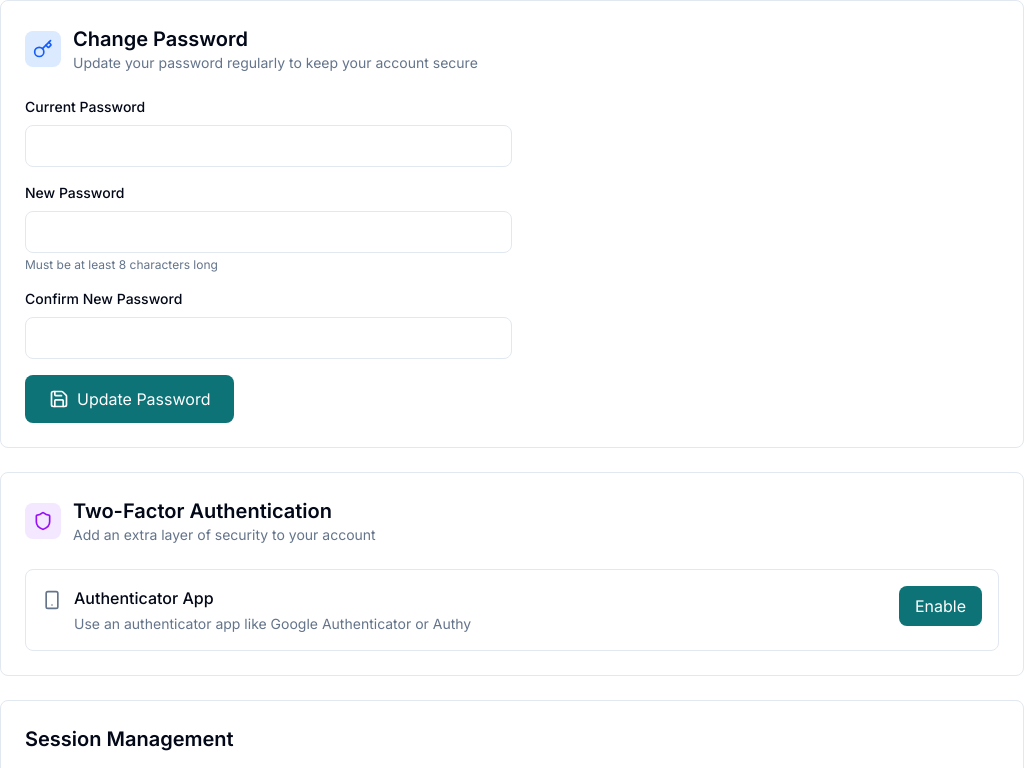
Test: SecuritySettings › should show error if passwords do not match
Type "oldpassword123" into the password field labelled "Current Password". click: (268, 146)
box: [25,125,512,167]
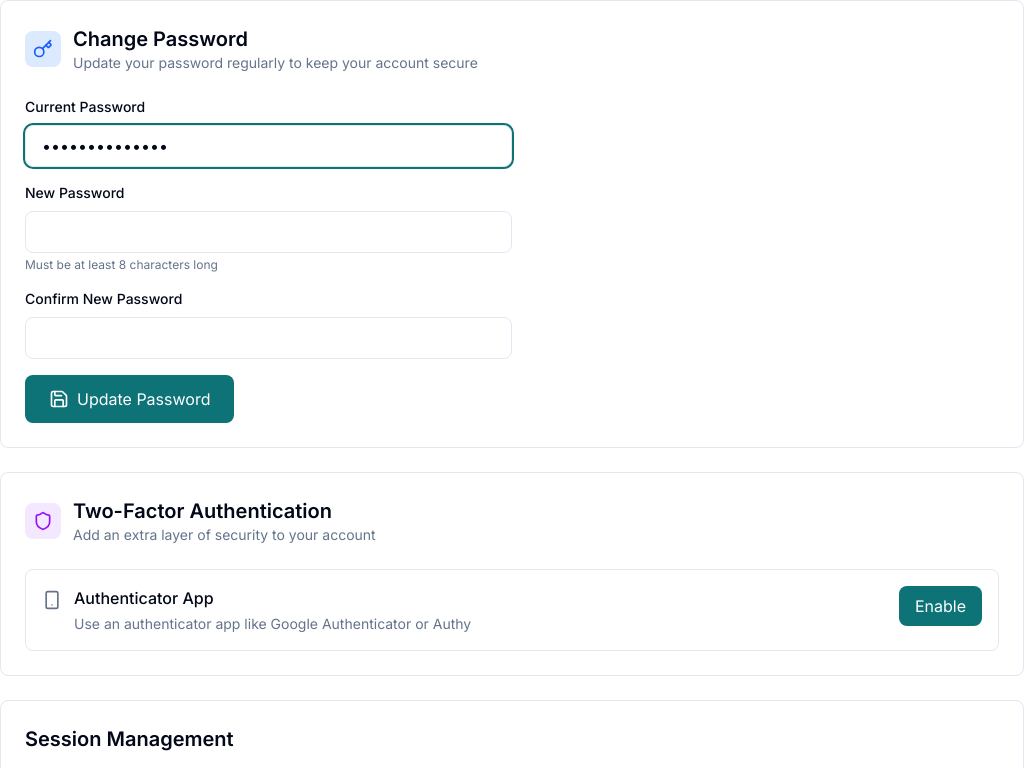
Type "newpassword123" into the password field labelled "New Password". click: (268, 232)
box: [25,211,512,253]
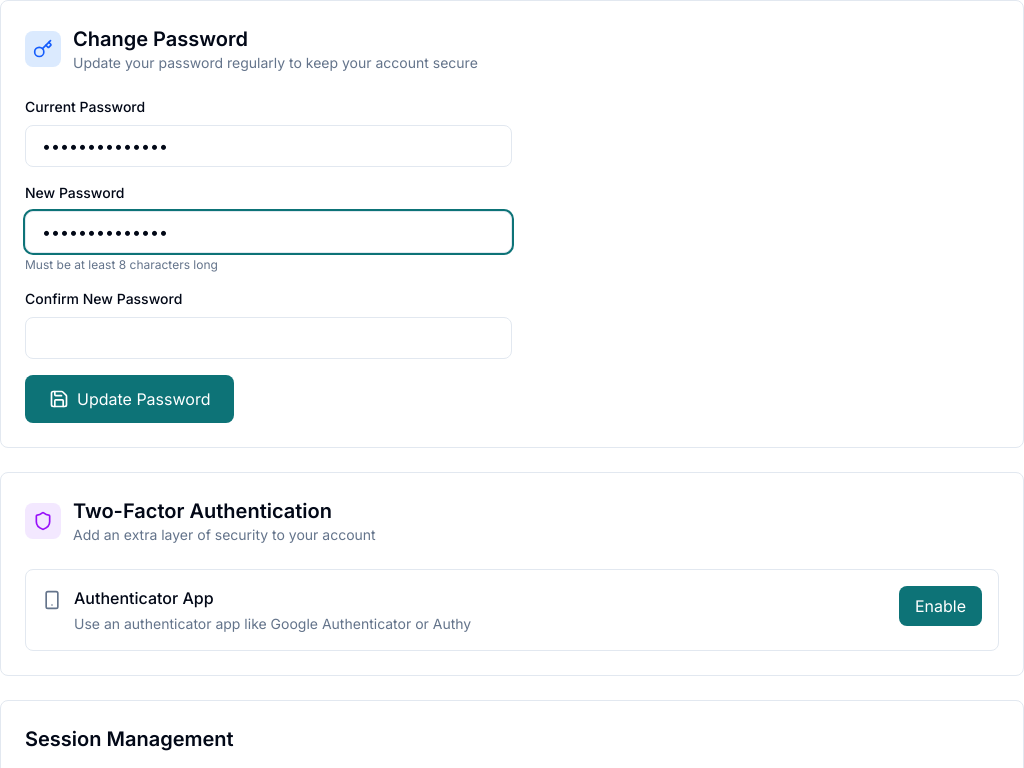
Type "differentpassword" into the password field labelled "Confirm New Password". click: (268, 338)
box: [25,317,512,359]
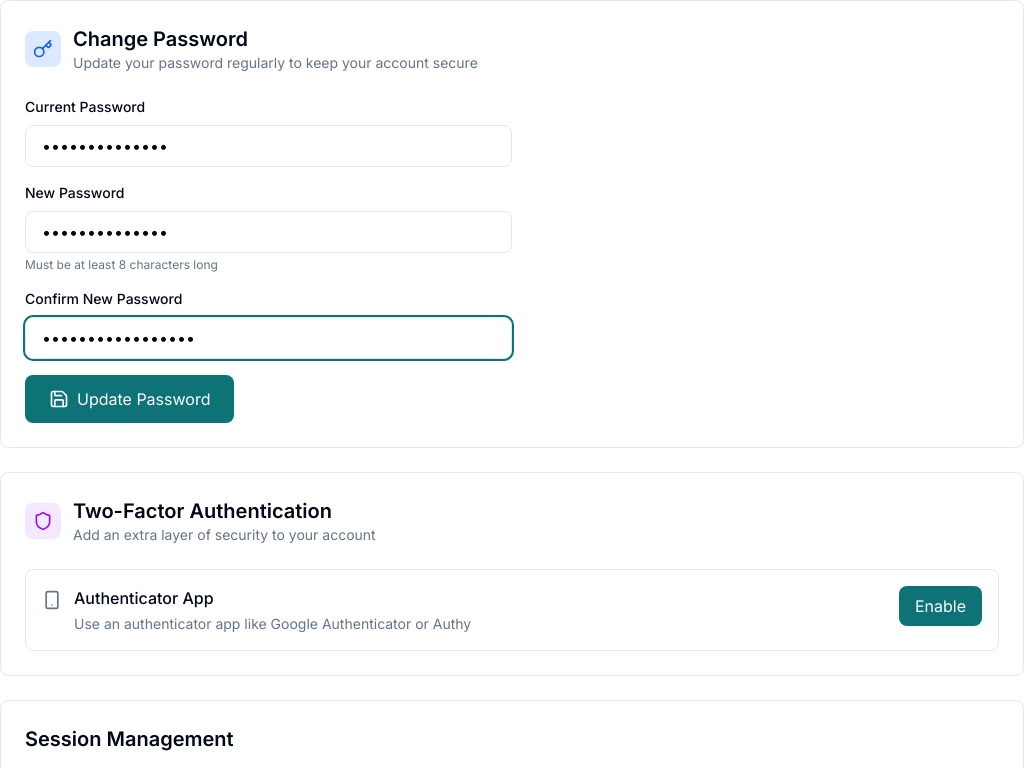
Click the button "Update Password". click: (130, 399)
box: [25,375,234,423]
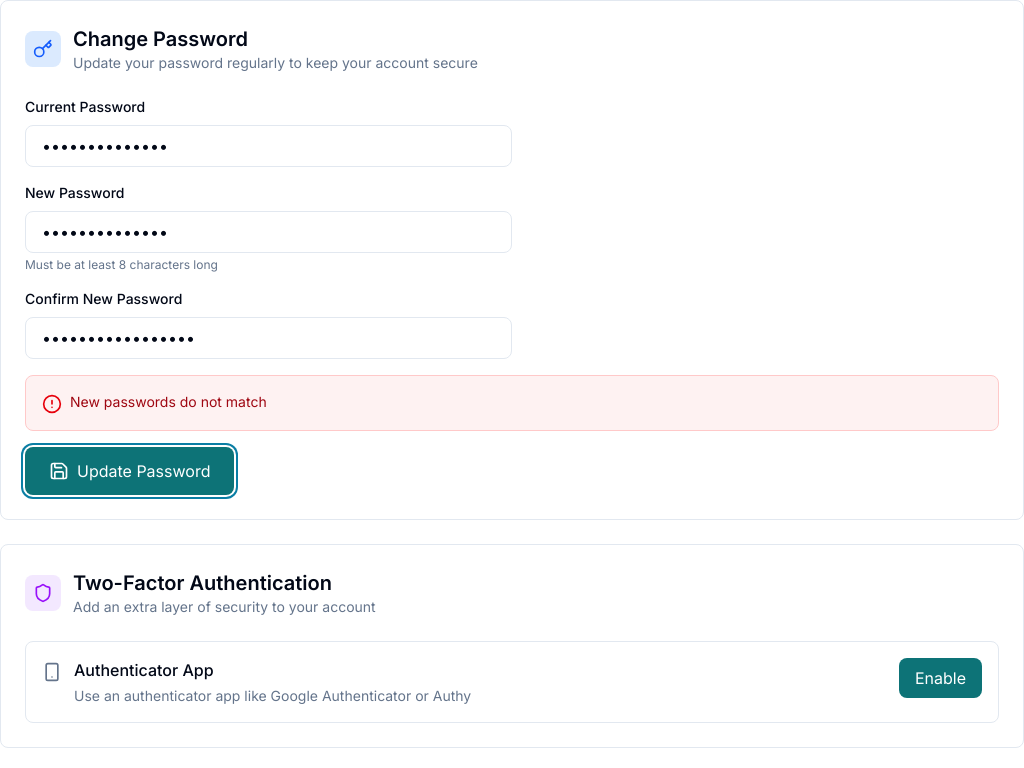
Expected: the text "New passwords do not match" is shown, [70,392,267,412]
